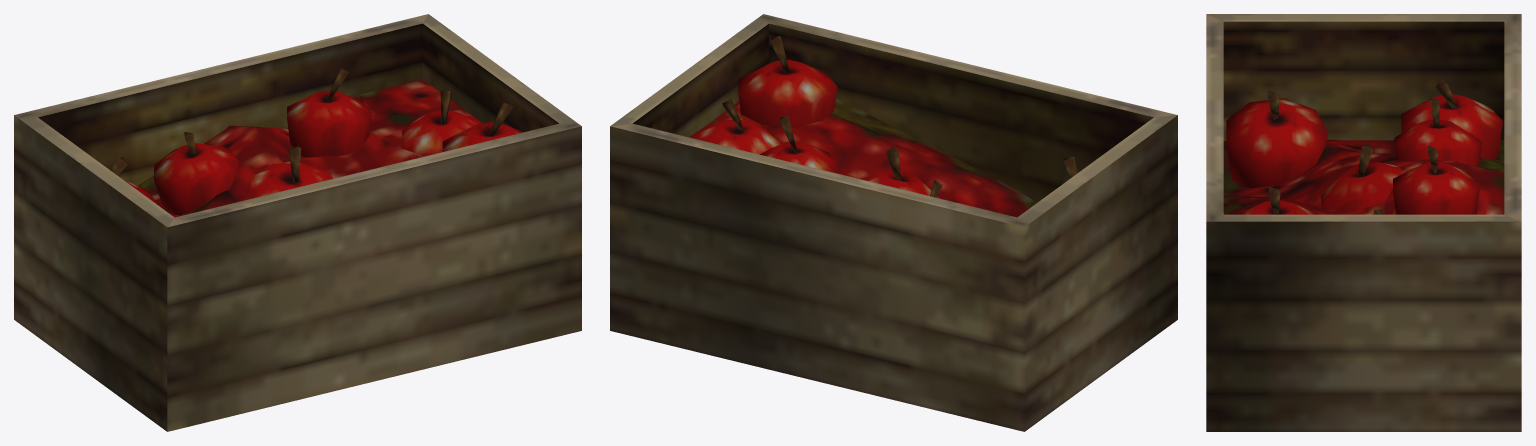
File: b_general_obj_22.fbx
3 renders of one model, left to right at view 1: azimuth 30°, elevation 25°; view 2: azimuth 150°, elevation 25°; view 3: azimuth 270°, elevation 25°, orthographic. The views are drawn at different scales.
Visible parts, largest first — view 1: Sphere01; view 2: Sphere01; view 3: Sphere01.
Part boxes in pixels (x1,y1,x2,y2): Sphere01: (14,14,581,431); Sphere01: (610,14,1177,431); Sphere01: (1206,14,1521,431).
Size of the model in its own units: 1.06 by 0.5309 by 0.6822.
